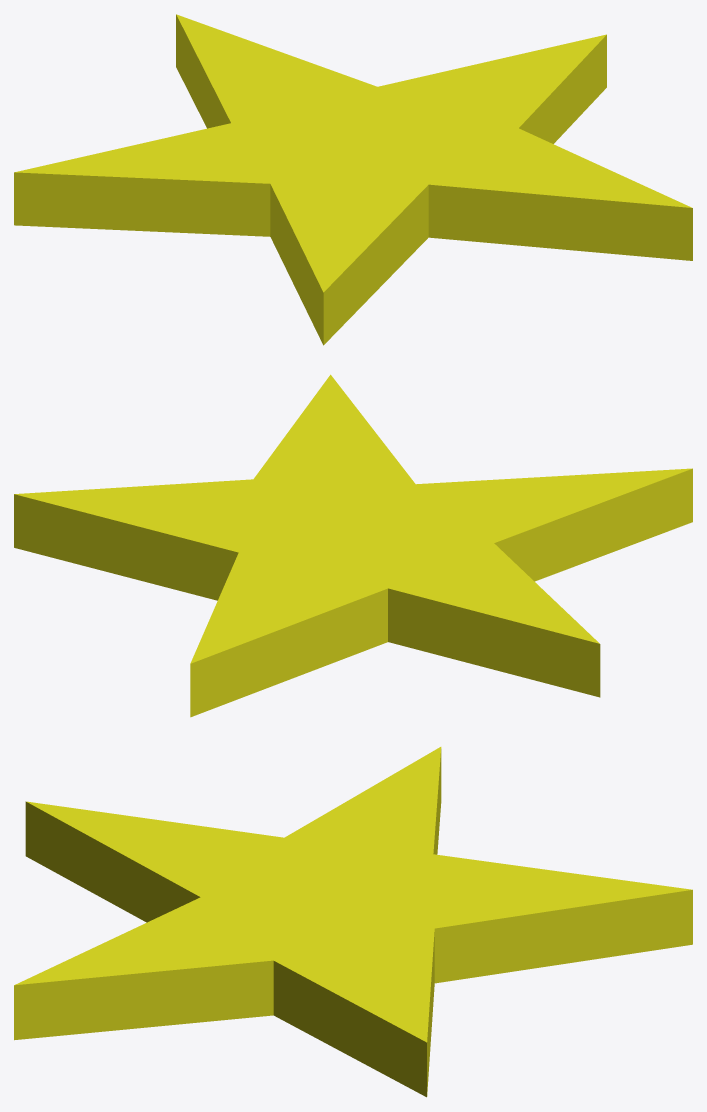
The model's file is star.fbx.
3 renders of one model, top to bottom at view 1: azimuth 30°, elevation 25°; view 2: azimuth 150°, elevation 25°; view 3: azimuth 270°, elevation 25°, orthographic. The views are drawn at different scales.
Parts seen in each view (by area): view 1: star.001; view 2: star.001; view 3: star.001.
Part boxes in pixels (bbox=[...]): star.001: bbox=[14, 14, 692, 345]; star.001: bbox=[14, 374, 692, 717]; star.001: bbox=[14, 747, 692, 1097].
Bounding box in the file's own units: 176 × 15.22 × 171.
